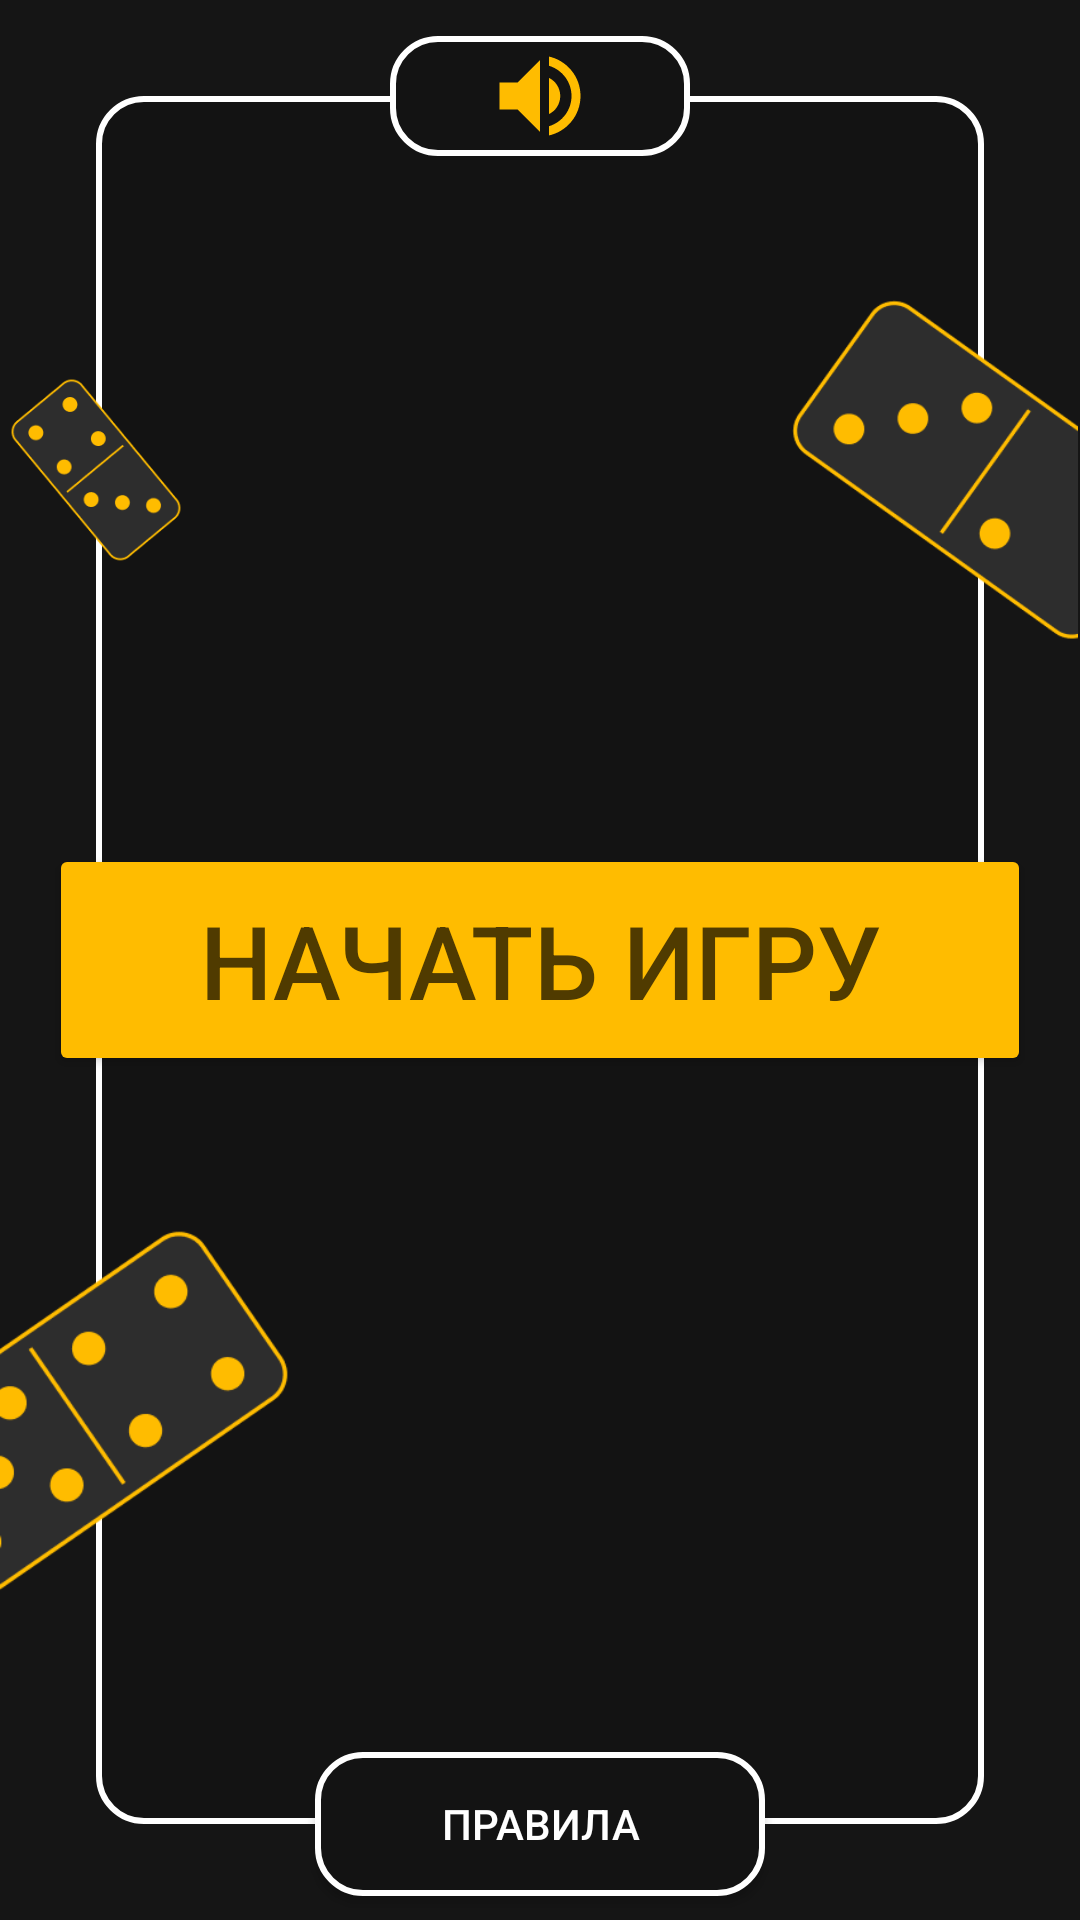

Point at icon controls on the screen. Image size 1080x1920, points as (x,y).
volume up: (540,96)
